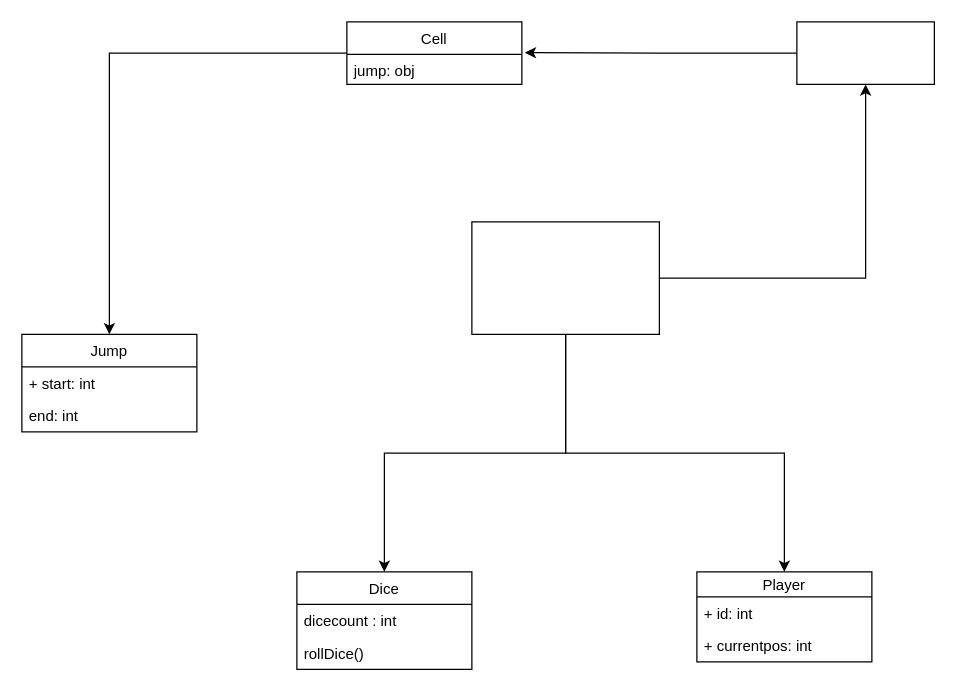
Some shapes in this 956 by 695 pixel diagram are drawn without their labels. Here are the shapes that lost their labels. From the top down, the centre of each, then its label:
At (x=865, y=52): "Board Cells[][] cells".
At (x=565, y=277): "Game Board Dice players".
